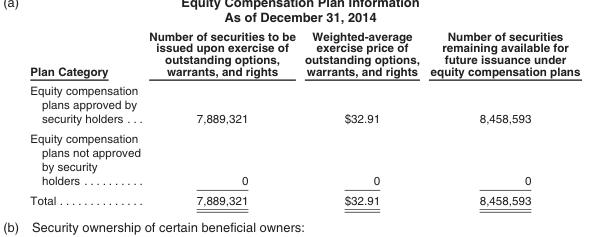table: (29, 28, 579, 206)
table column: (144, 28, 299, 206), (424, 28, 579, 206), (299, 28, 424, 206), (29, 28, 144, 206)
table column header: (29, 28, 579, 80)
table row: (29, 128, 579, 190), (29, 28, 579, 80), (29, 80, 579, 128), (29, 190, 579, 206)
